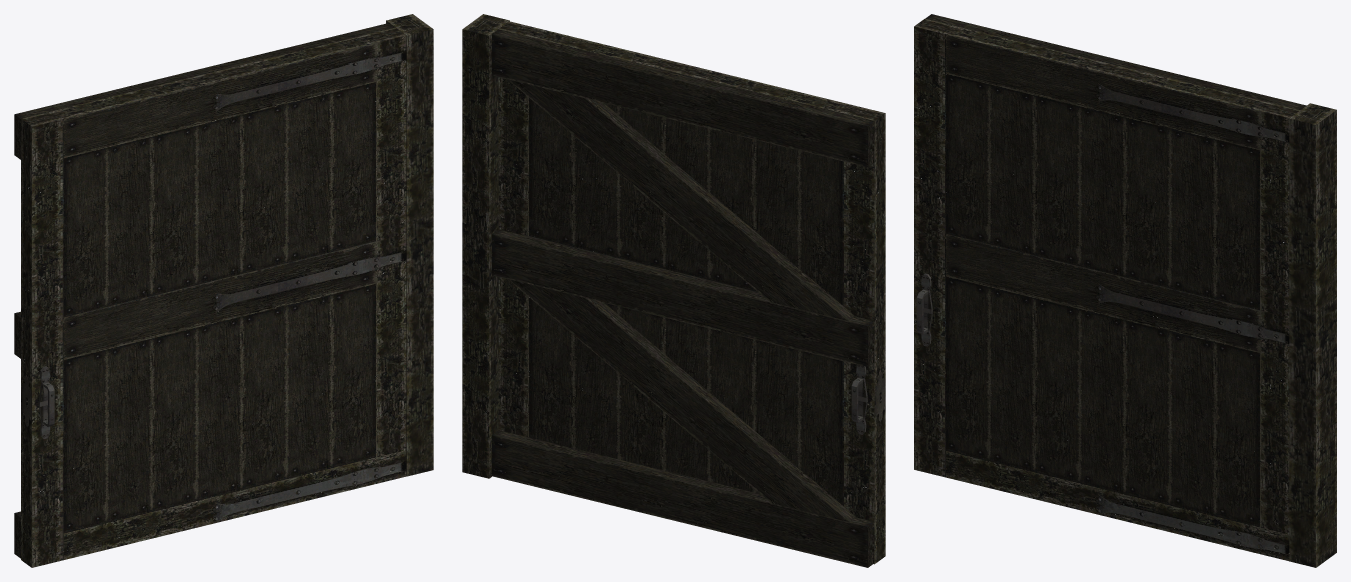
The model's file is pubgate01.DAE.
3 views of the same model, side by side, from view 1: azimuth 30°, elevation 25°; view 2: azimuth 150°, elevation 25°; view 3: azimuth 330°, elevation 25° (orthographic).
Visible parts, largest first — view 1: Object091, Object101, Box040, Box041; view 2: Object091, Box040, Object101, Box041; view 3: Object091, Object101, Box040, Box041.
Boxes of the visible parts, x1,y1,x2,y2 form: Object091: [21, 27, 406, 567]; Object101: [386, 14, 433, 476]; Box040: [14, 23, 394, 558]; Box041: [38, 366, 54, 438]; Object091: [498, 21, 885, 564]; Box040: [492, 29, 874, 567]; Object101: [462, 14, 509, 478]; Box041: [851, 364, 867, 434]; Object091: [914, 18, 1299, 560]; Object101: [1289, 103, 1336, 567]; Box040: [925, 14, 1306, 530]; Box041: [916, 273, 938, 346].
Size of the model in its own units: 3.59 by 3.77 by 0.4246.
